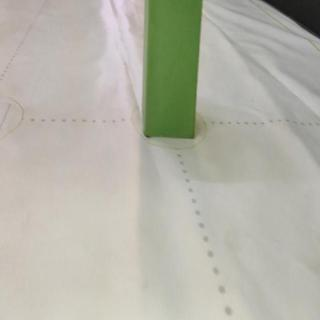greenbox: (141, 1, 202, 138)
